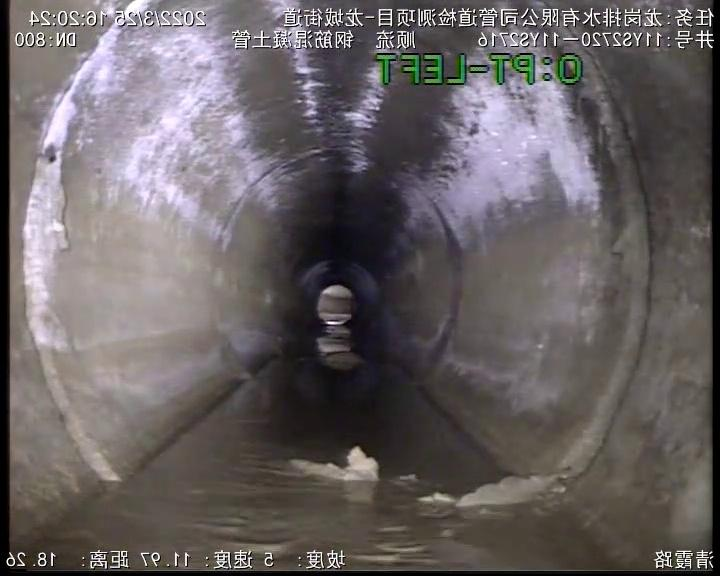CKTJ: (463, 70, 650, 503), (23, 57, 121, 481)
